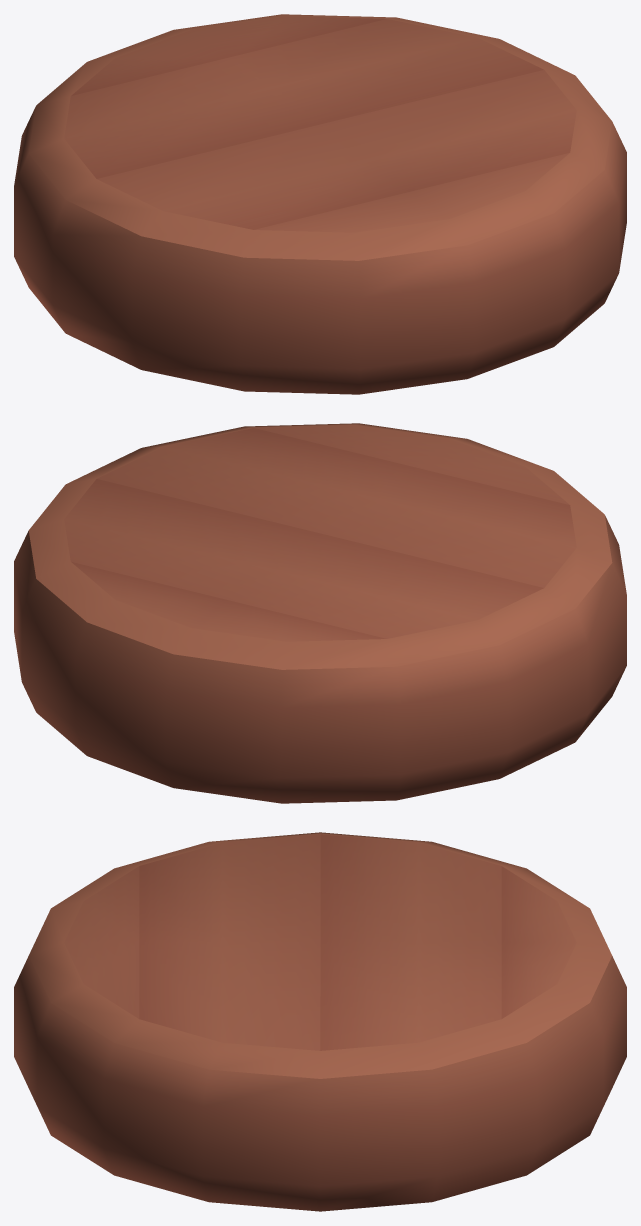
File: kay-food_ingredient_burger_cooked.glb
3 views of the same model, one above another, from view 1: azimuth 30°, elevation 25°; view 2: azimuth 150°, elevation 25°; view 3: azimuth 270°, elevation 25° (orthographic).
Parts seen in each view (by area): view 1: food_ingredient_burger_cooked; view 2: food_ingredient_burger_cooked; view 3: food_ingredient_burger_cooked.
Part boxes in pixels (x1,y1,x2,y2): food_ingredient_burger_cooked: (14, 14, 626, 394); food_ingredient_burger_cooked: (14, 423, 626, 803); food_ingredient_burger_cooked: (14, 832, 626, 1211).
Size of the model in its own units: 0.22 by 0.0629 by 0.22.
Materials: 1 (1 with a texture image).
